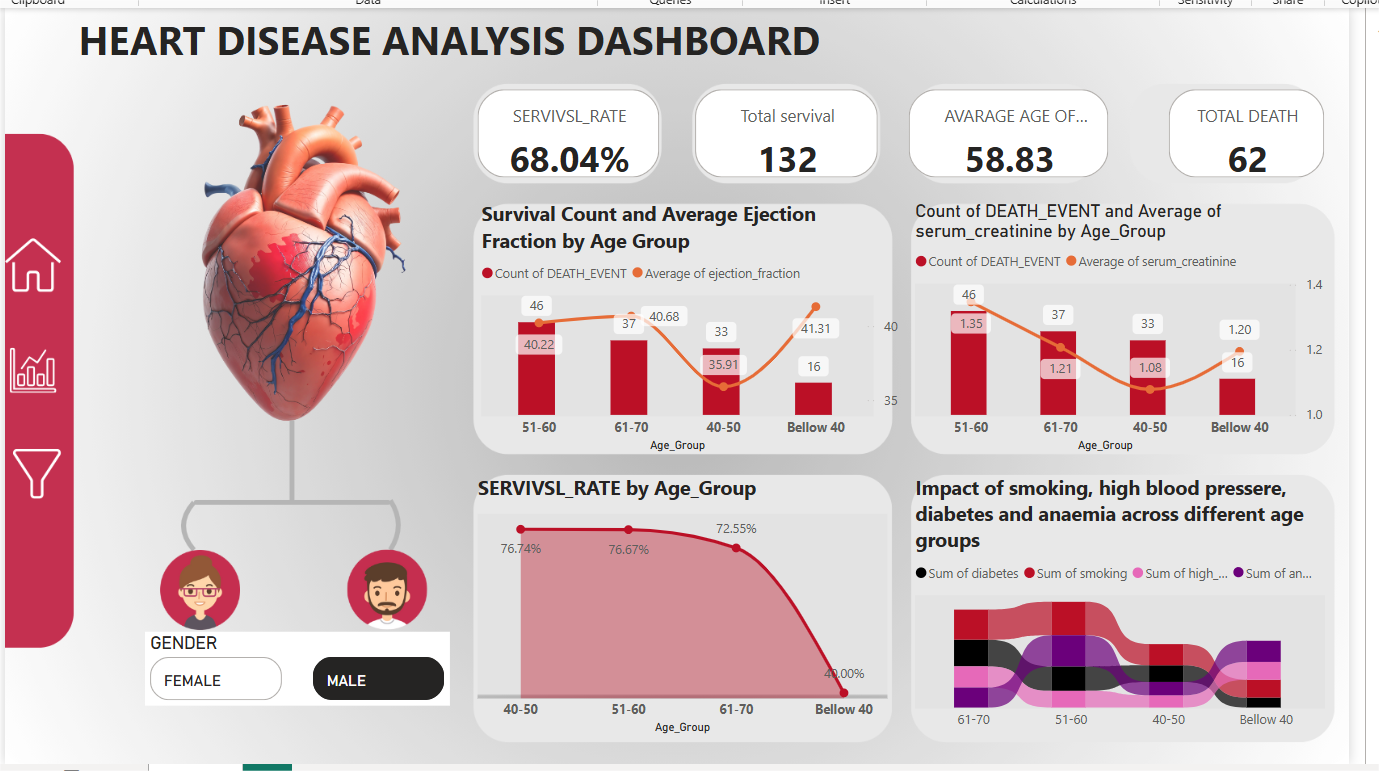

What the dashboard file says about the page in this screenshot:
{"tool":"powerbi","page":{"name":"Page 1","canvas":[1280,720],"ordinal":0},"visuals":[{"type":"textbox","box":[9.5,0,827.4,61.9],"z":500},{"type":"cardVisual","fields":{"Data":["heart_Disease_clinical_records_.AVARAGE AGE OF SURVIVAL"]},"box":[856,72.6,200,94],"z":1000},{"type":"cardVisual","fields":{"Data":["heart_Disease_clinical_records_.TOTAL DEATH"]},"box":[1103.6,72.6,158.3,94],"z":2000},{"type":"advancedSlicerVisual","fields":{"Values":["heart_Disease_clinical_records_.GENDER"]},"box":[133.3,594.1,290.5,70.2],"z":3000},{"type":"lineChart","fields":{"Category":["heart_Disease_clinical_records_.Age_Group"],"Y":["heart_Disease_clinical_records_.SERVIVSL_RATE"]},"box":[445.2,444,400,252.4],"z":4000},{"type":"lineClusteredColumnComboChart","title":" Survival Count and Average Ejection Fraction by Age Group","fields":{"Category":["heart_Disease_clinical_records_.Age_Group"],"Y":["CountNonNull(heart_Disease_clinical_records_.DEATH_EVENT)"],"Y2":["Avg(heart_Disease_clinical_records_.ejection_fraction)"]},"box":[448.8,183.3,407.1,244],"z":5000},{"type":"lineClusteredColumnComboChart","fields":{"Category":["heart_Disease_clinical_records_.Age_Group"],"Y":["CountNonNull(heart_Disease_clinical_records_.DEATH_EVENT)"],"Y2":["Avg(heart_Disease_clinical_records_.serum_creatinine)"]},"box":[861.9,183.3,400,244],"z":6000},{"type":"ribbonChart","title":"Impact of smoking, high blood pressere, diabetes and anaemia across different age groups","fields":{"Category":["heart_Disease_clinical_records_.Age_Group"],"Y":["Sum(heart_Disease_clinical_records_.diabetes)","Sum(heart_Disease_clinical_records_.smoking)","Sum(heart_Disease_clinical_records_.high_blood_pressure)","Sum(heart_Disease_clinical_records_.anaemia)"]},"box":[861.9,444,400,252.4],"z":7000},{"type":"cardVisual","fields":{"Data":["heart_Disease_clinical_records_.SERVIVSL_RATE"]},"box":[445.2,72.6,183.3,94],"z":9000},{"type":"cardVisual","fields":{"Data":["heart_Disease_clinical_records_.Total servival"]},"box":[652.4,72.6,184.5,94],"z":9500}]}

Visuals, with their boxes on the page's 1280x720 design canvas (x1, y1, x2, y2). These are canvas units, not pixel positions in the 1379x771 screenshot, which may show the page scaled, cropped or inside an application window:
textbox: region(10, 0, 837, 62)
cardVisual - heart_Disease_clinical_records_.AVARAGE AGE OF SURVIVAL: region(856, 73, 1056, 167)
cardVisual - heart_Disease_clinical_records_.TOTAL DEATH: region(1104, 73, 1262, 167)
advancedSlicerVisual - heart_Disease_clinical_records_.GENDER: region(133, 594, 424, 664)
lineChart - heart_Disease_clinical_records_.Age_Group x heart_Disease_clinical_records_.SERVIVSL_RATE: region(445, 444, 845, 696)
" Survival Count and Average Ejection Fraction by Age Group" lineClusteredColumnComboChart: region(449, 183, 856, 427)
lineClusteredColumnComboChart - heart_Disease_clinical_records_.Age_Group x CountNonNull(heart_Disease_clinical_records_.DEATH_EVENT): region(862, 183, 1262, 427)
"Impact of smoking, high blood pressere, diabetes and anaemia across different age groups" ribbonChart: region(862, 444, 1262, 696)
cardVisual - heart_Disease_clinical_records_.SERVIVSL_RATE: region(445, 73, 628, 167)
cardVisual - heart_Disease_clinical_records_.Total servival: region(652, 73, 837, 167)
